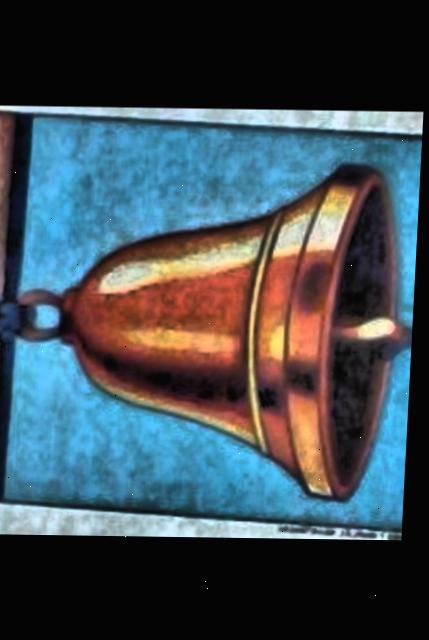La Campana: (0, 110, 424, 527)
